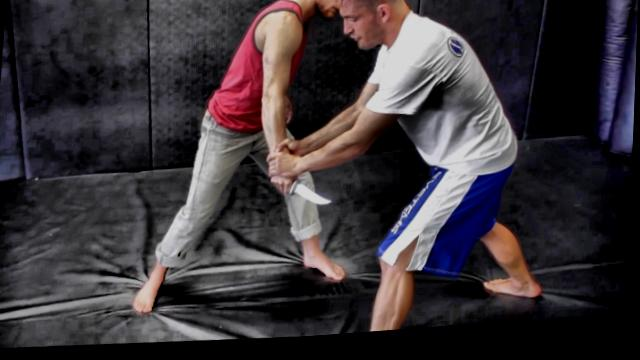knife: (265, 176, 339, 219)
